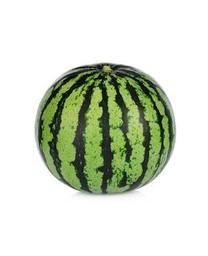watermelon: (32, 61, 177, 197)
